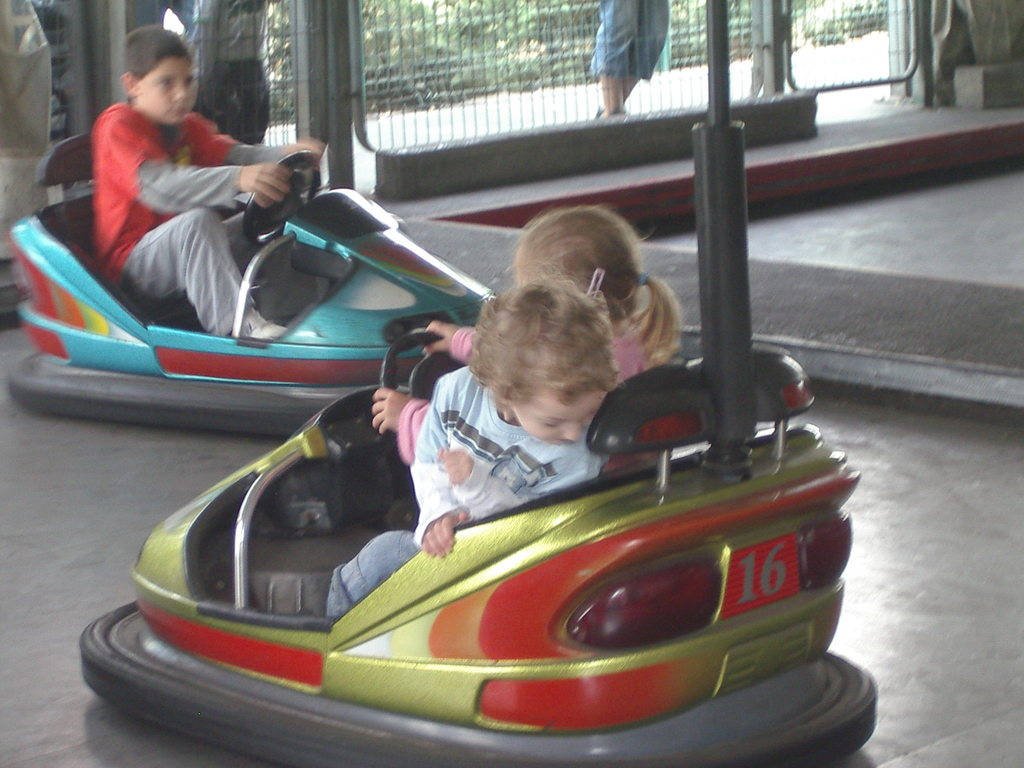Person: (249, 268, 631, 599), (90, 25, 330, 340), (588, 0, 675, 116)
